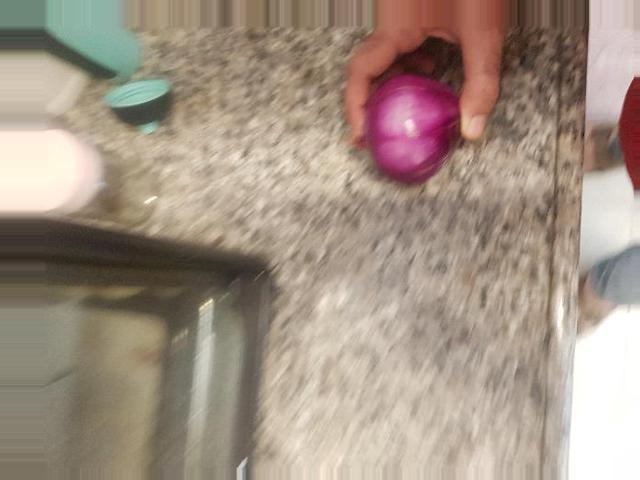onion: (328, 346, 455, 452)
